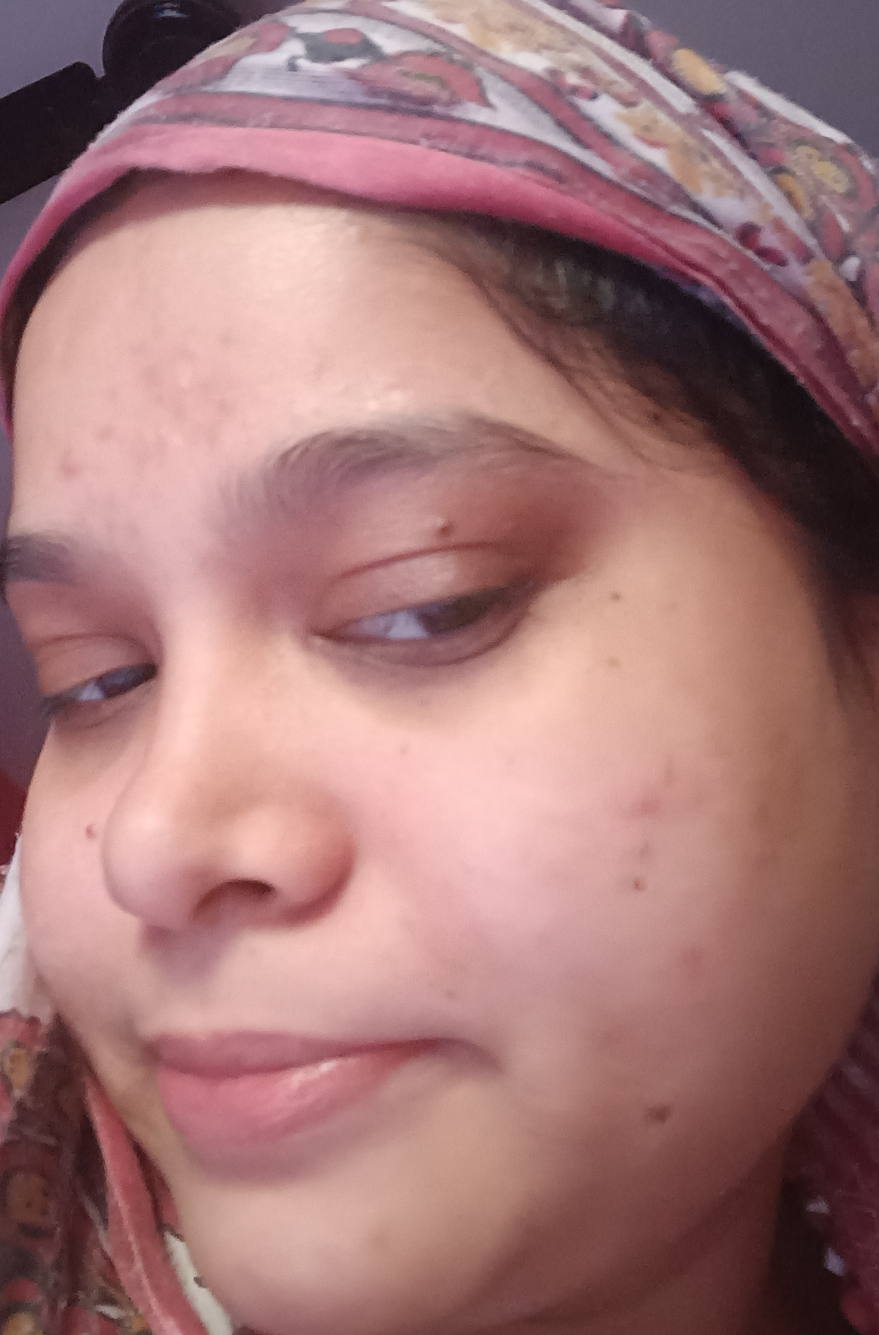papule: (50, 437, 100, 508), (609, 777, 668, 834), (162, 358, 213, 404)
